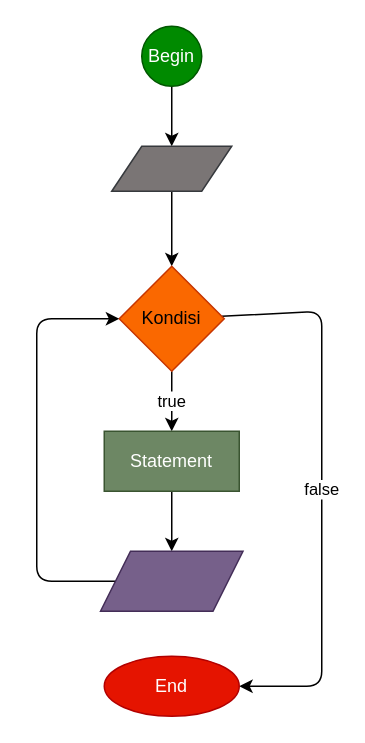
This 365x743 diagram has some shape labels left out. Each missing label, with the centre of its shape:
"Increment" goes at (171,580).
"Start" goes at (171,168).
